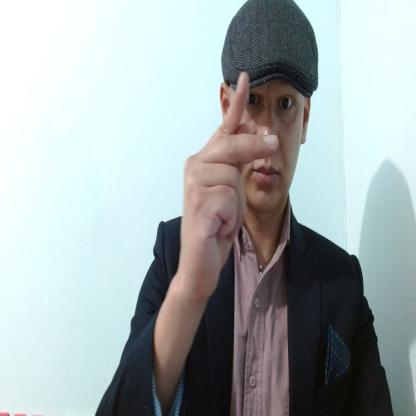P: (176, 72, 281, 299)
